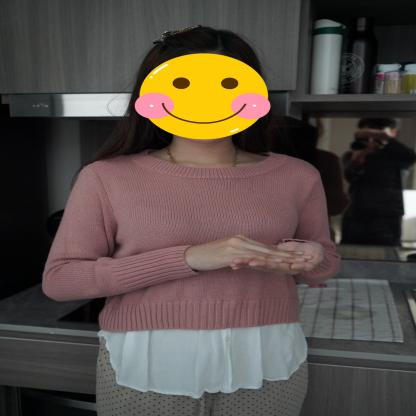Love: (167, 230, 378, 291)
